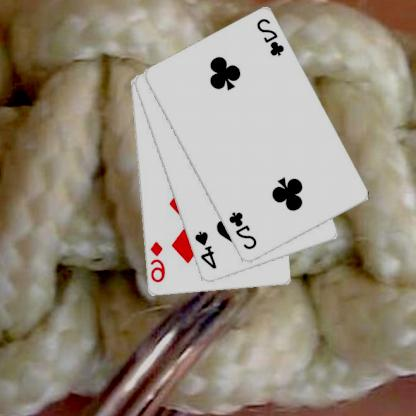2C: (228, 209, 260, 252), (255, 16, 287, 58)
4S: (194, 229, 220, 270)
9D: (149, 239, 168, 284)
